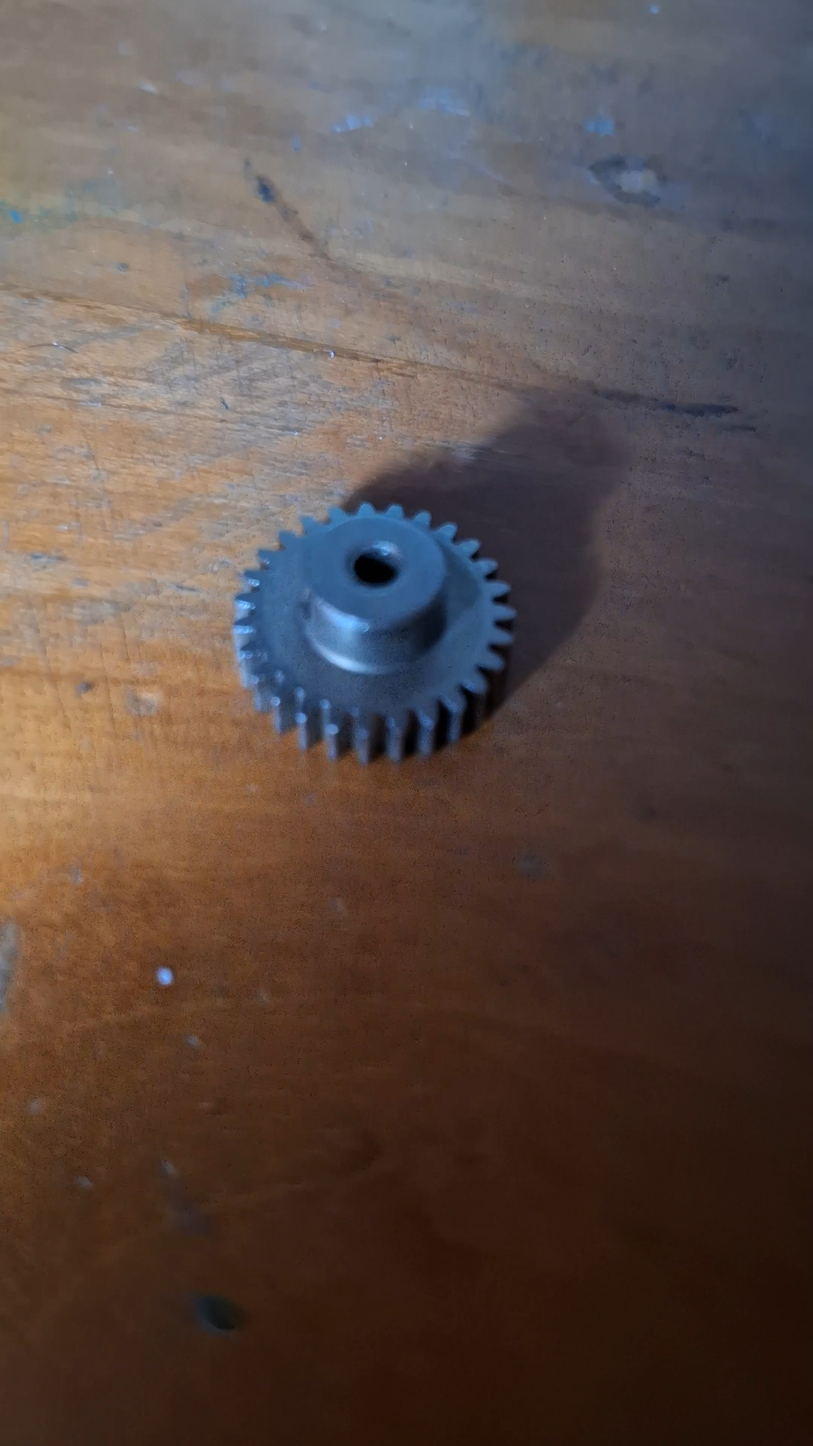spur gear: (234, 503, 515, 763)
